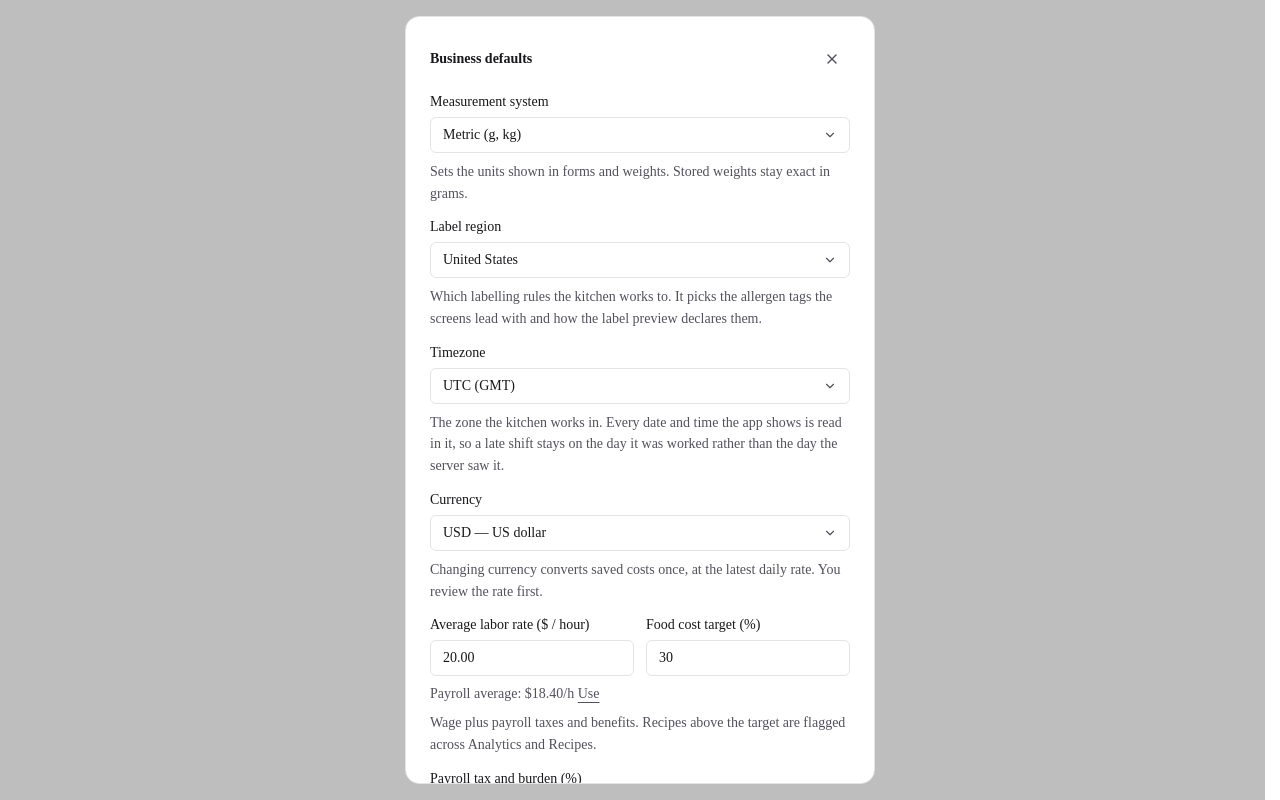
Test: the payroll average beside the labor rate › fills the rate with what payroll actually pays
Expected: the field labelled "Average labor rate ($ / hour)" holds "20.00", [430,640,634,676]
Step 1. Click the button "Use" → (589, 694), box [578,684,600,704]
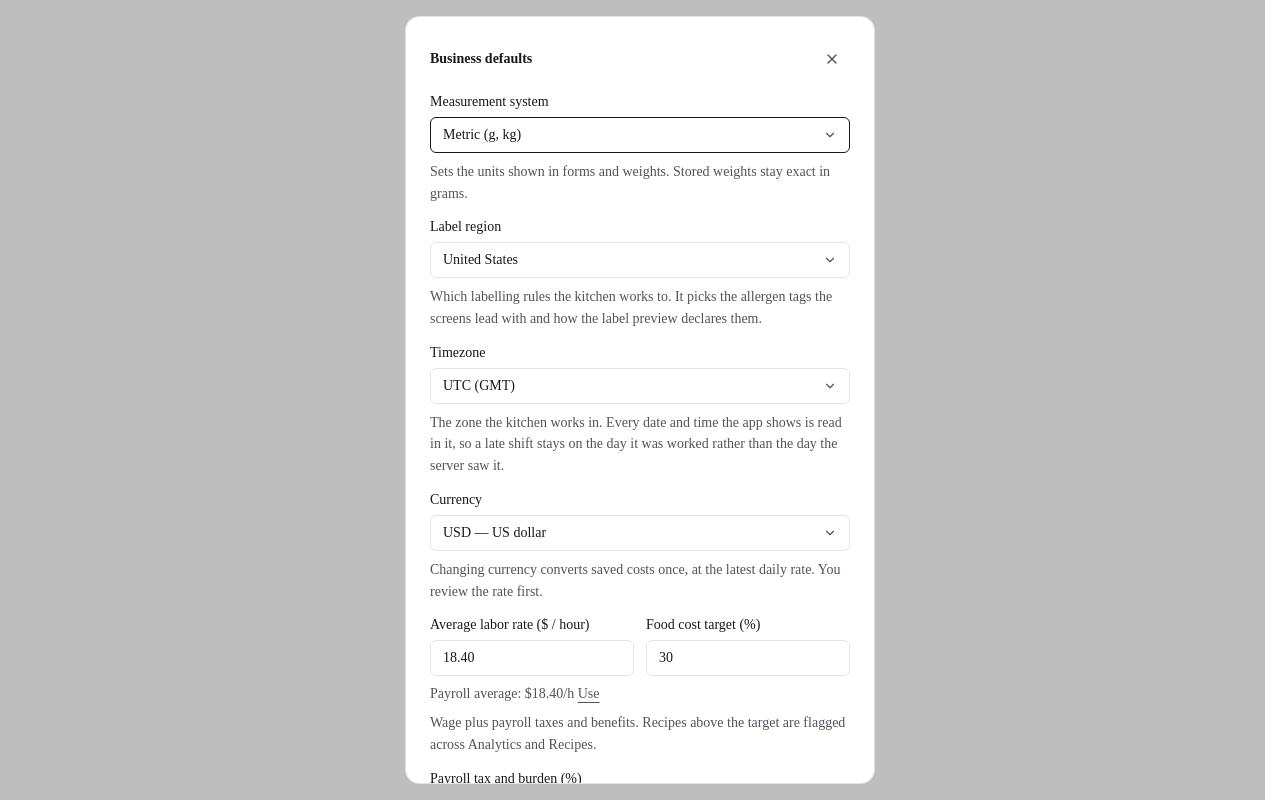
Expected: the text "Payroll average: $18.40/h" is shown, [430,686,574,701]
Expected: the field labelled "Average labor rate ($ / hour)" holds "18.40", [430,640,634,676]
